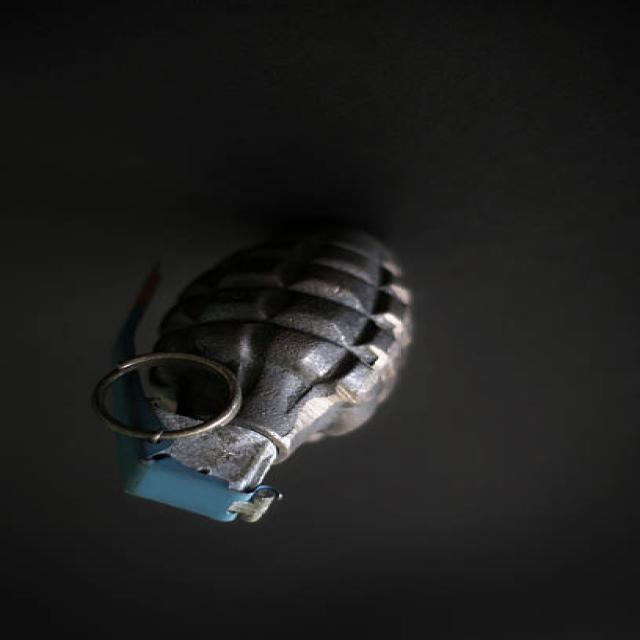grenade: (88, 225, 432, 533)
